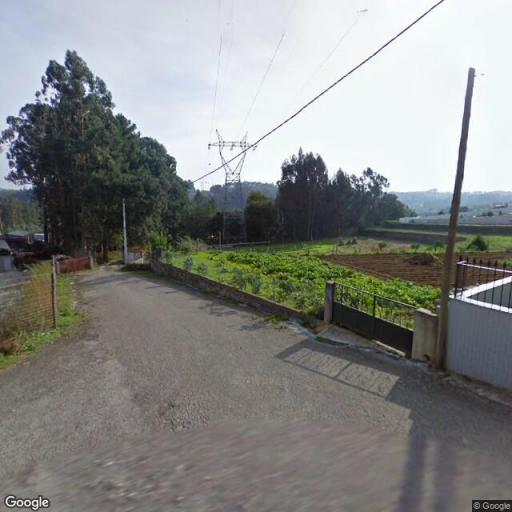wt_5: (207, 127, 259, 249)
